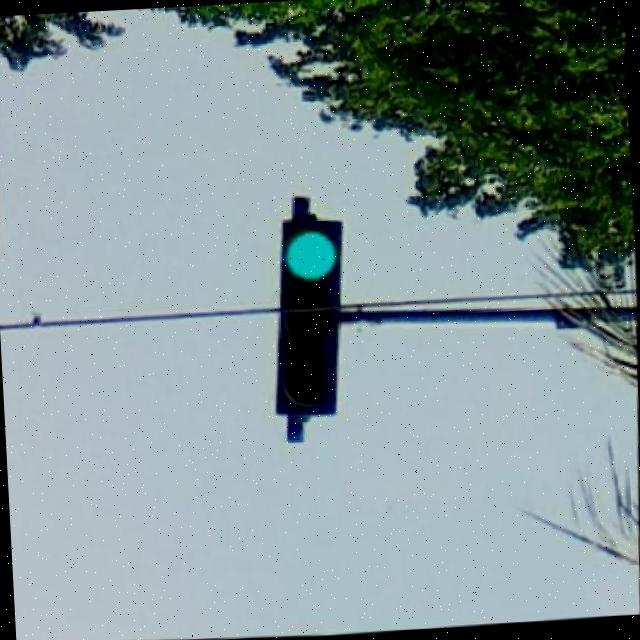green_light: (267, 218, 353, 418)
